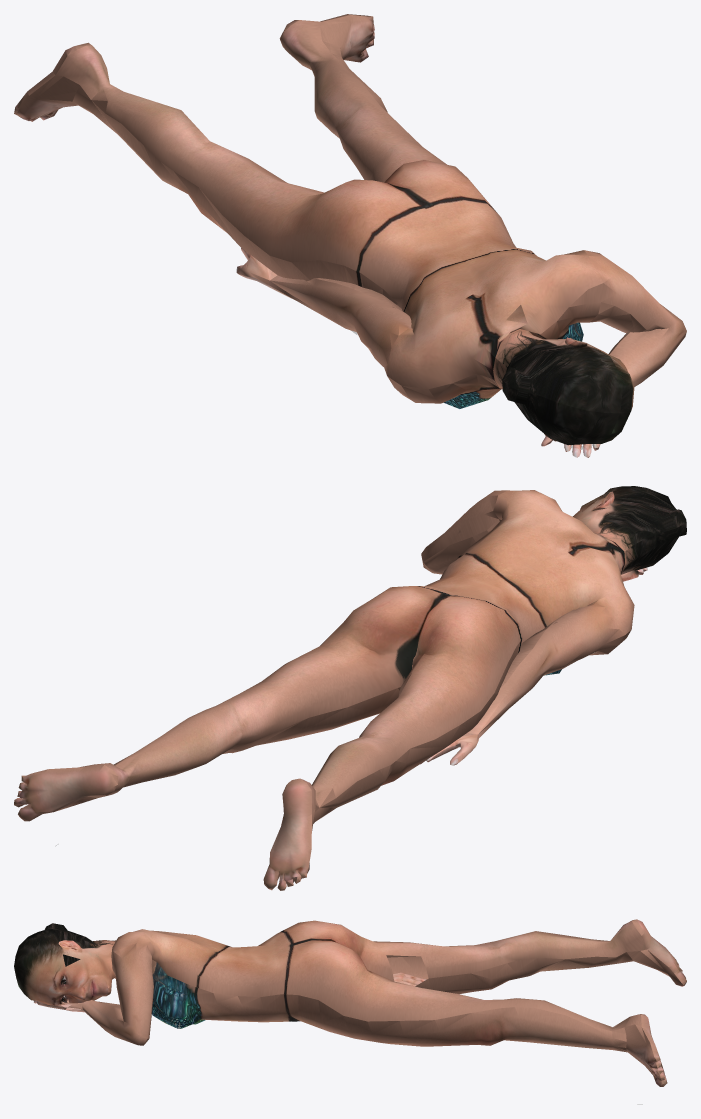
Rendered from woman.FBX.
The picture shows the model from 3 angles, top to bottom: view 1: azimuth 30°, elevation 25°; view 2: azimuth 150°, elevation 25°; view 3: azimuth 270°, elevation 25°; orthographic projection. The views are drawn at different scales.
Parts seen in each view (by area): view 1: SWom0005-S; view 2: SWom0005-S; view 3: SWom0005-S.
Part boxes in pixels (x1=…): SWom0005-S: x1=14, y1=14, x2=686, y2=457; SWom0005-S: x1=14, y1=486, x2=686, y2=890; SWom0005-S: x1=14, y1=919, x2=686, y2=1104.
Bounding box in the file's own units: 28.74 × 13.72 × 71.98.
